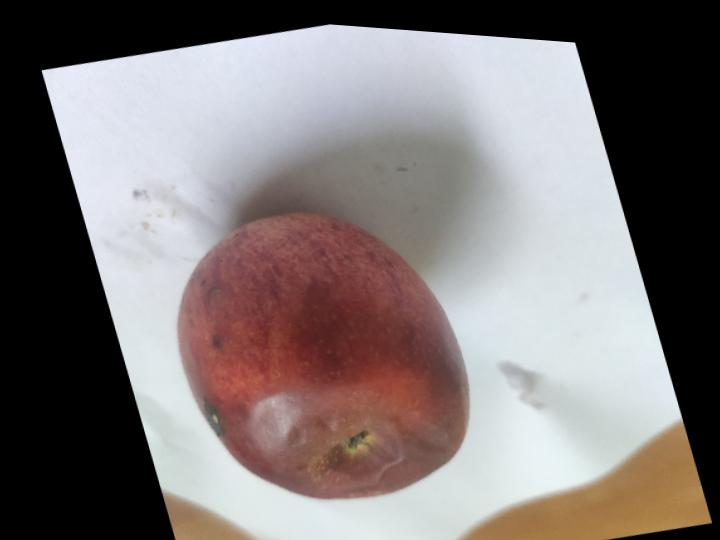apple: (178, 213, 467, 499)
bruise_discoloration: (248, 398, 459, 499)
rot_mold_decay: (203, 398, 224, 436)
